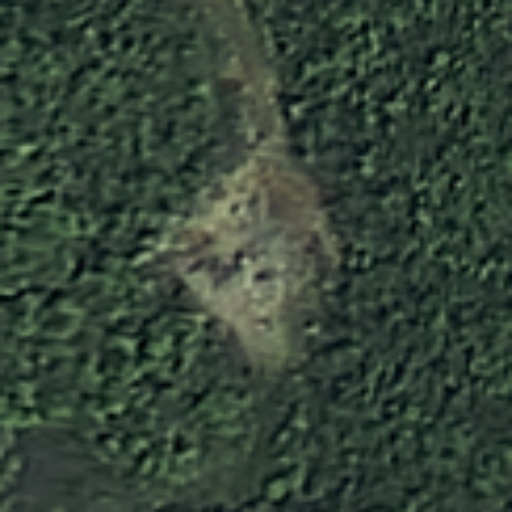landslide: (162, 138, 297, 370)
